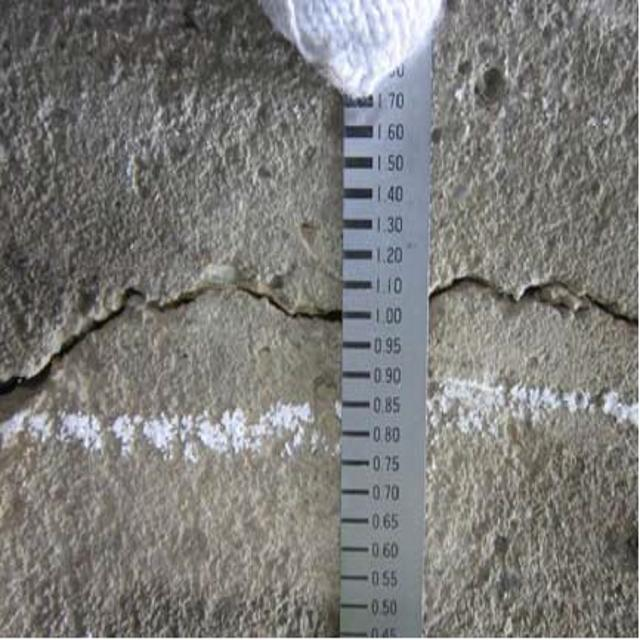crack: (0, 240, 340, 416), (430, 209, 640, 370)
